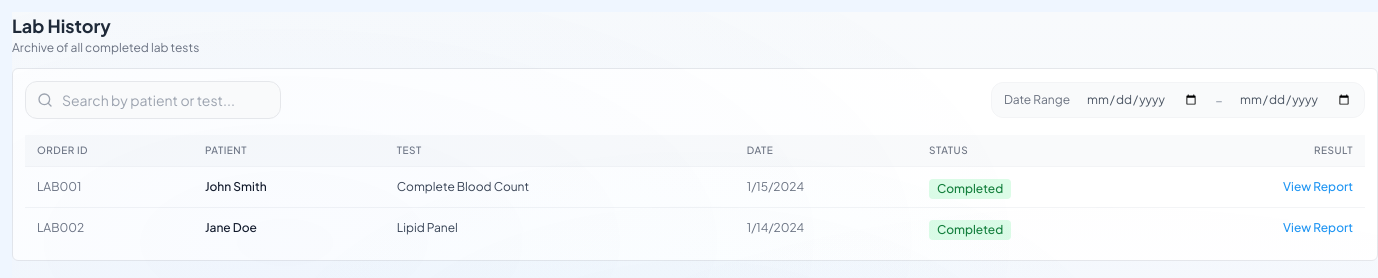
Test: Lab History Page › filters orders by patient name
Expected: the text "John Smith" is shown, [193,166,385,208]
Type "John" into the field with placeholder "Search by patient or test..." at (153, 100), box [25,81,281,119]
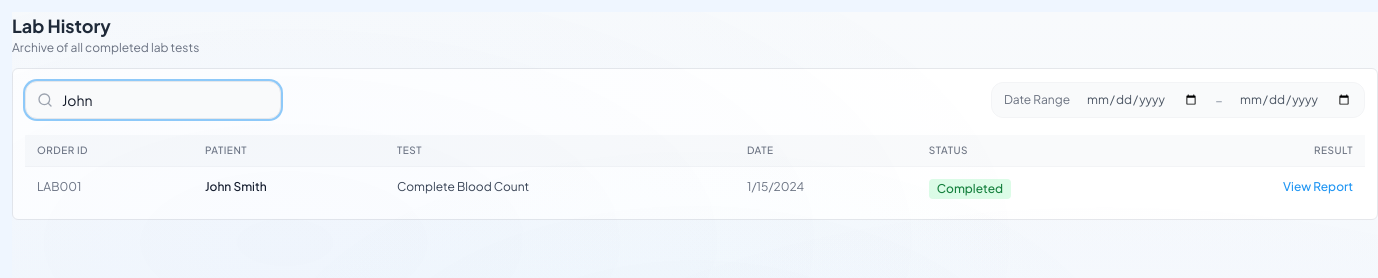
Expected: the text "John Smith" is shown, [193,166,385,207]
Now the text "Jane Doe" is gone
